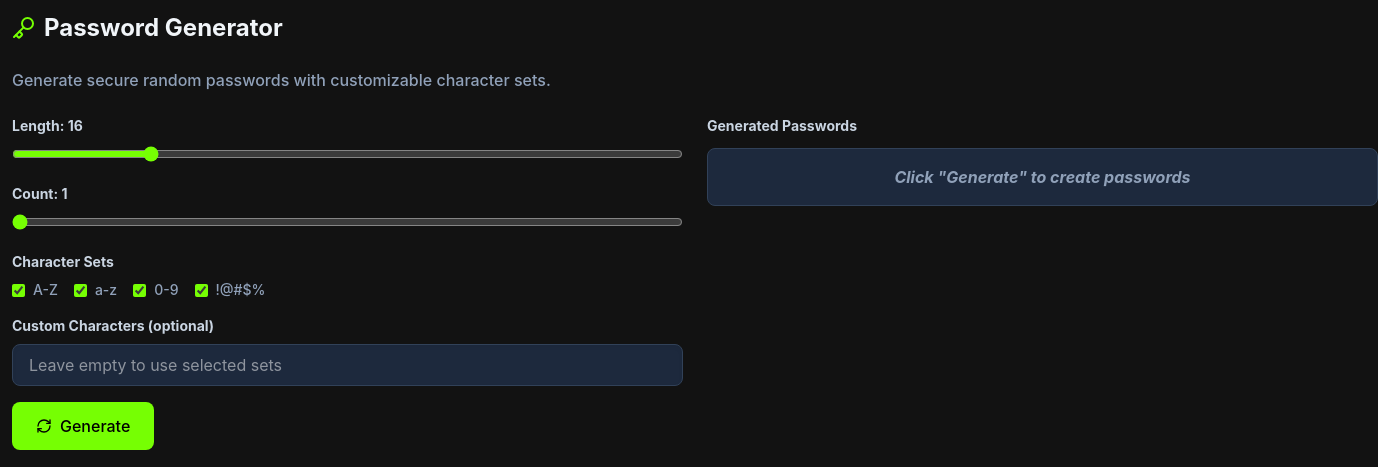
Scenario: PasswordTool › handles password generation
Click the button "Generate".
click(83, 426)  # box 12,402 -> 154,450
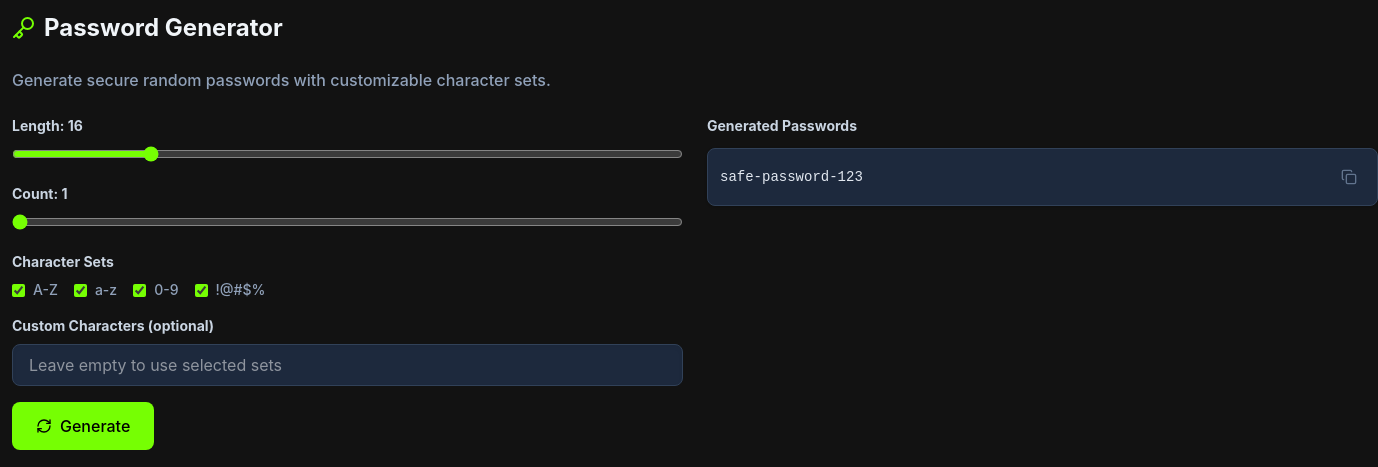
Expected: the text "safe-password-123" is shown, 720,167 -> 863,187
